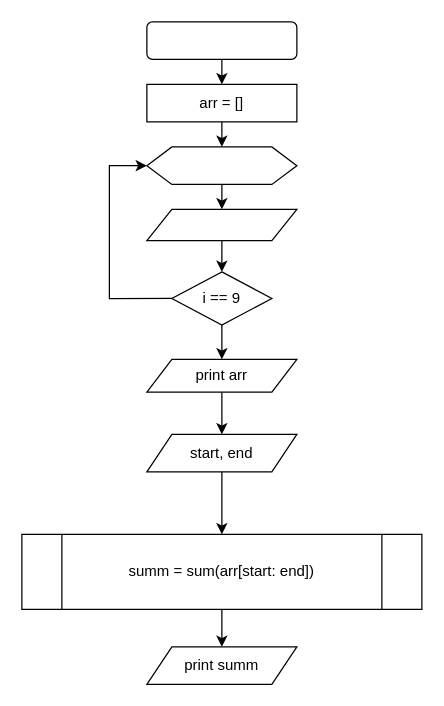
The diagram is 444 pixels wide and 706 high, and some of its shapes have lost their labels. Each missing label, with the centre of its shape:
"i = 0 .. 9" goes at (221,165).
"input arr[n]" goes at (221,224).
"Start" goes at (221,40).
